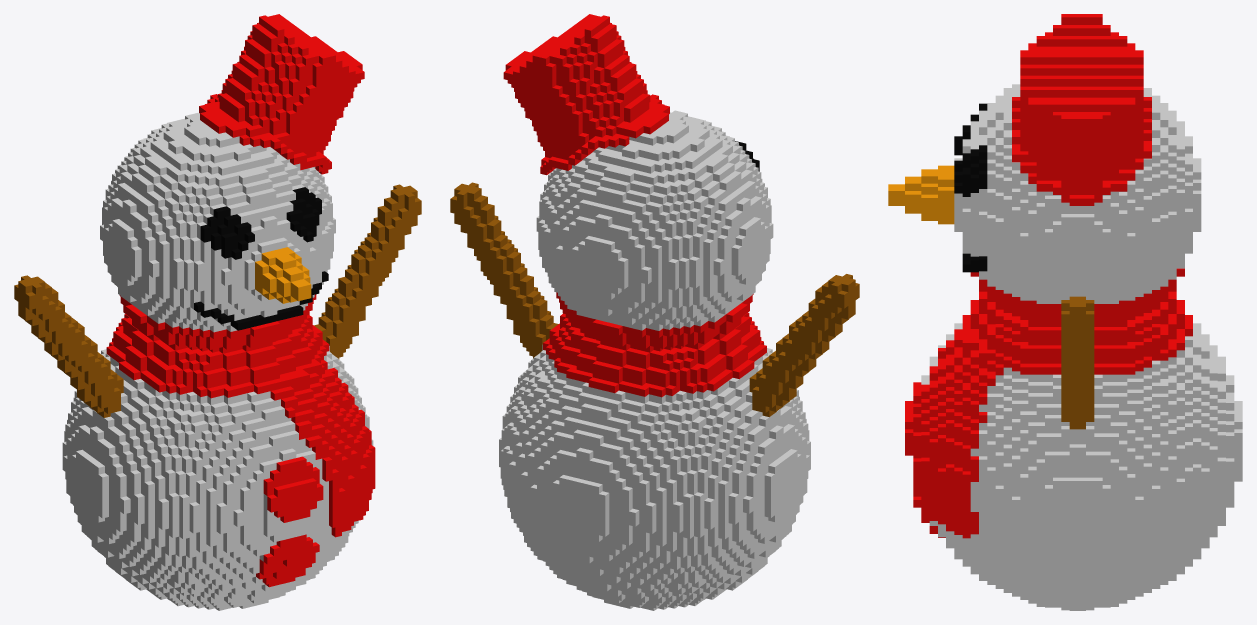
File: Snowman.fbx
3 views of the same model, side by side, from view 1: azimuth 30°, elevation 25°; view 2: azimuth 150°, elevation 25°; view 3: azimuth 270°, elevation 25° (orthographic). The views are drawn at different scales.
Parts seen in each view (by area): view 1: ObjObject.005, ObjObject.001; view 2: ObjObject.005, ObjObject.001; view 3: ObjObject.005, ObjObject.001.
Part boxes in pixels (x1=…): ObjObject.005: x1=62, y1=113, x2=373, y2=610; ObjObject.001: x1=14, y1=14, x2=421, y2=587; ObjObject.005: x1=499, y1=110, x2=810, y2=610; ObjObject.001: x1=450, y1=14, x2=859, y2=416; ObjObject.005: x1=921, y1=84, x2=1242, y2=610; ObjObject.001: x1=888, y1=14, x2=1192, y2=538.
Bounding box in the file's own units: 176 × 238 × 126.
